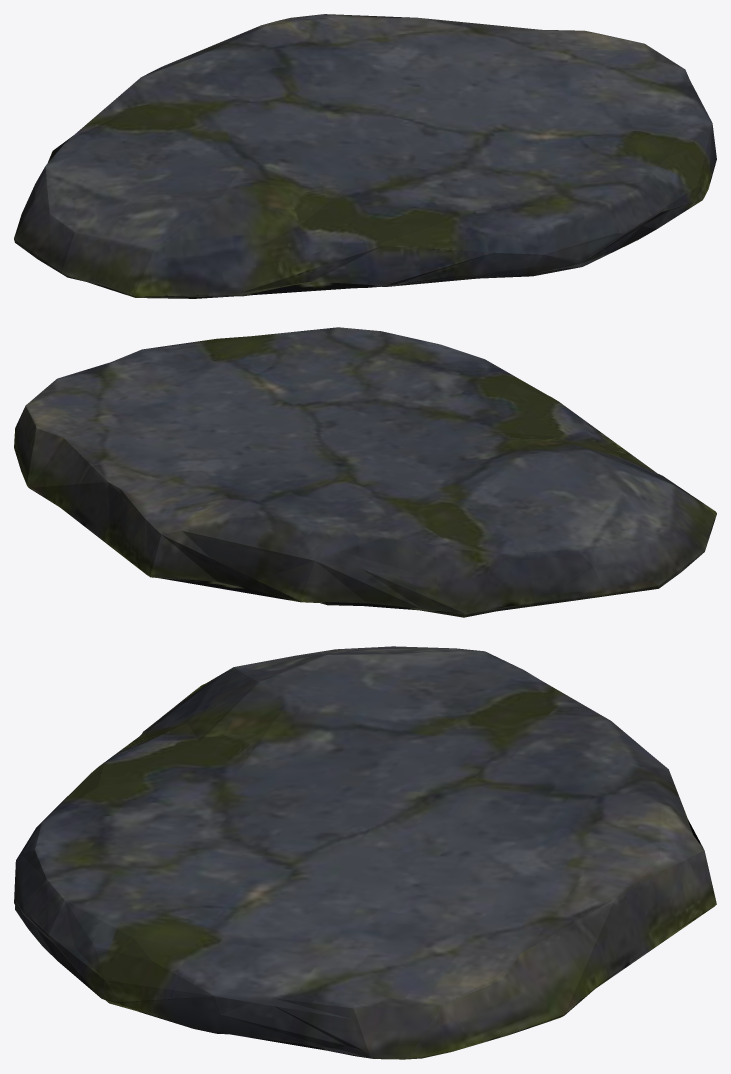
File: rock_slab_xl_a.glb
3 views of the same model, one above another, from view 1: azimuth 30°, elevation 25°; view 2: azimuth 150°, elevation 25°; view 3: azimuth 270°, elevation 25° (orthographic). The views are drawn at different scales.
Parts seen in each view (by area): view 1: slab_low; view 2: slab_low; view 3: slab_low.
Part boxes in pixels (<box>): slab_low: <box>14,14,716,298</box>; slab_low: <box>14,327,716,617</box>; slab_low: <box>14,646,716,1059</box>.
Size of the model in its own units: 3.4 by 0.2962 by 2.57.
1 material, 1 textured.
